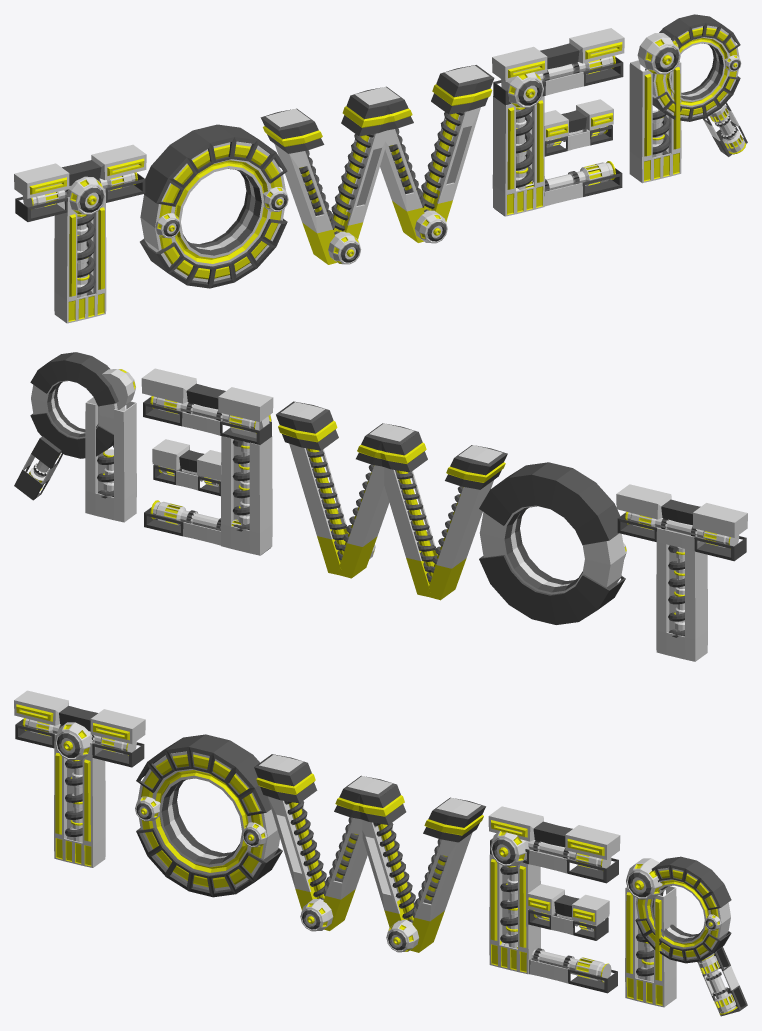
The model's file is title_TOWER.fbx.
3 renders of one model, top to bottom at view 1: azimuth 30°, elevation 25°; view 2: azimuth 150°, elevation 25°; view 3: azimuth 330°, elevation 25°, orthographic.
Parts seen in each view (by area): view 1: polySurface260; view 2: polySurface260; view 3: polySurface260.
Part boxes in pixels (x1,y1,x2,y2): polySurface260: [14, 14, 747, 323]; polySurface260: [14, 352, 747, 661]; polySurface260: [14, 690, 747, 1016].
Bounding box in the file's own units: 8.55 × 1.71 × 0.5945.
